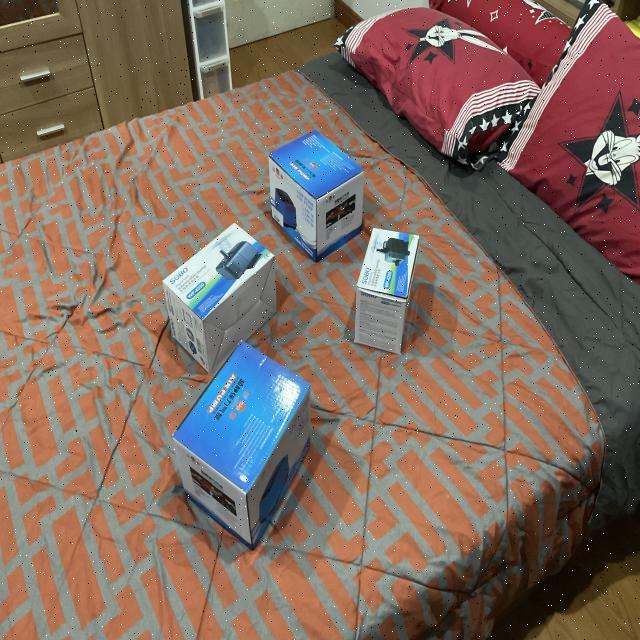SOBO_WP_4200: (162, 220, 280, 374), (348, 228, 431, 372)
YAMANO_LPP_20: (166, 346, 314, 556), (265, 117, 367, 266)
